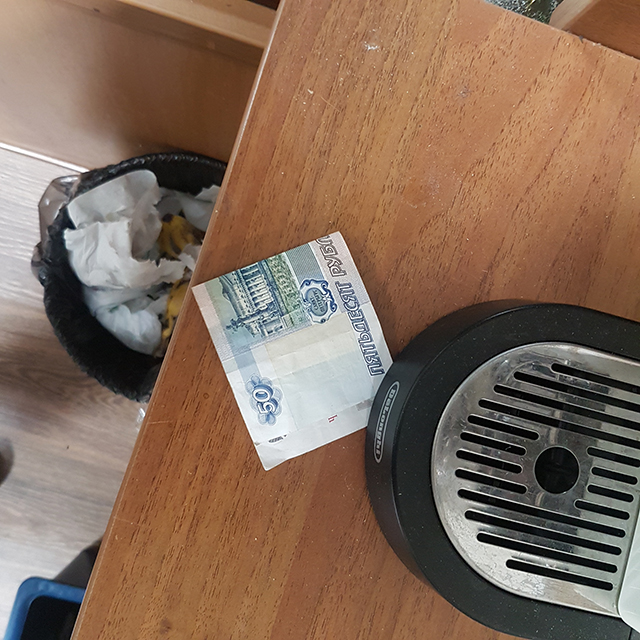banknotes: (190, 230, 397, 472)
